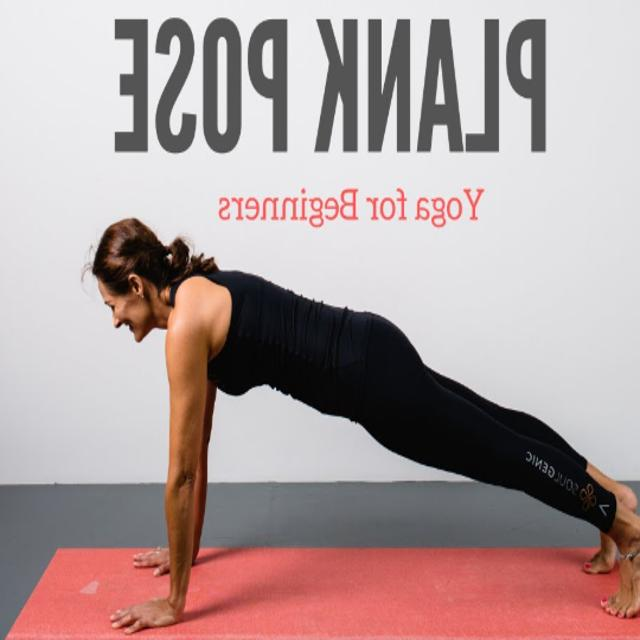Plank_Pose: (76, 218, 640, 639)
